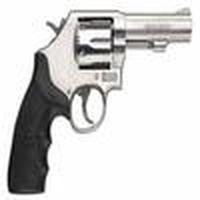gun: (2, 9, 196, 181)
